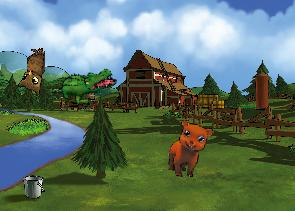bear: (166, 118, 214, 181)
crocodile: (50, 53, 119, 118)
owl: (17, 47, 45, 94)
